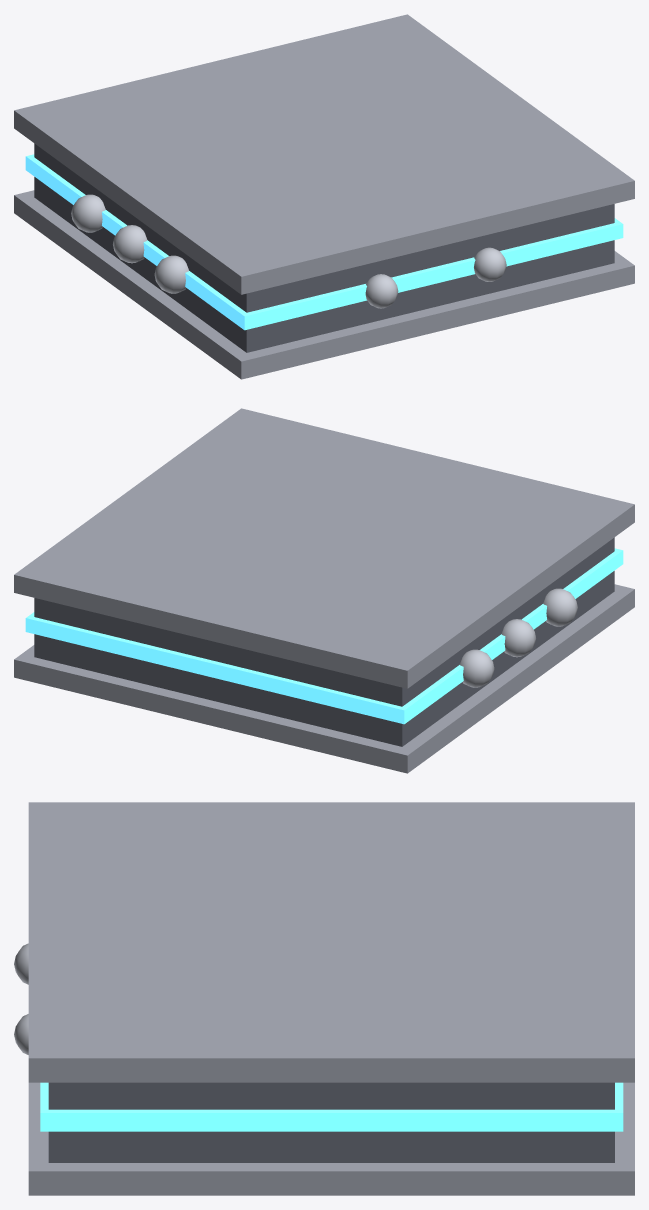
The picture shows the model from 3 angles, top to bottom: view 1: azimuth 30°, elevation 25°; view 2: azimuth 150°, elevation 25°; view 3: azimuth 270°, elevation 25°; orthographic projection. The views are drawn at different scales.
Parts seen in each view (by area): view 1: brawler-band; view 2: brawler-band; view 3: brawler-band.
Boxes of the visible parts, bbox=[...] form: brawler-band: bbox=[14, 14, 634, 379]; brawler-band: bbox=[14, 408, 634, 773]; brawler-band: bbox=[14, 802, 634, 1195].
Bounding box in the file's own units: 0.3494 × 0.0846 × 0.3473.
